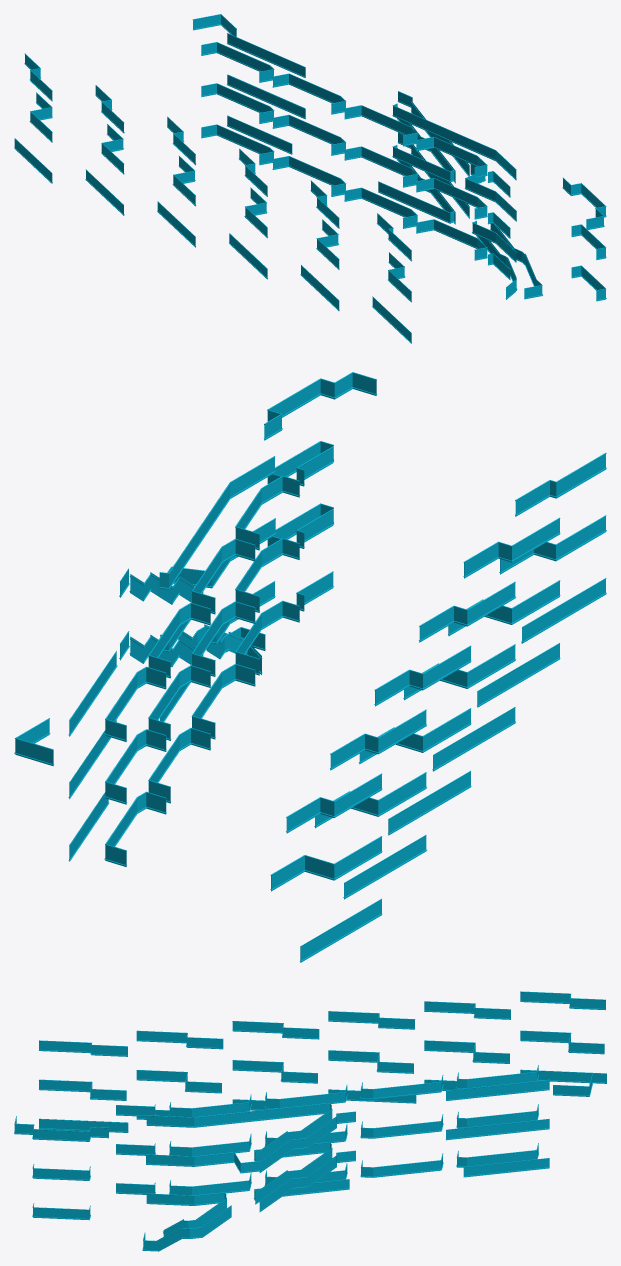
The model's file is rails.glb.
3 views of the same model, one above another, from view 1: azimuth 30°, elevation 25°; view 2: azimuth 150°, elevation 25°; view 3: azimuth 270°, elevation 25° (orthographic). The views are drawn at different scales.
Parts seen in each view (by area): view 1: product-b518e1b9-2612-431b-bf5a-424667147bec-body; view 2: product-b518e1b9-2612-431b-bf5a-424667147bec-body; view 3: product-b518e1b9-2612-431b-bf5a-424667147bec-body.
Part boxes in pixels (x1,y1,x2,y2): product-b518e1b9-2612-431b-bf5a-424667147bec-body: (14, 14, 606, 343); product-b518e1b9-2612-431b-bf5a-424667147bec-body: (14, 372, 606, 962); product-b518e1b9-2612-431b-bf5a-424667147bec-body: (14, 991, 606, 1251).
Size of the model in its own units: 27.75 by 12 by 49.46.
